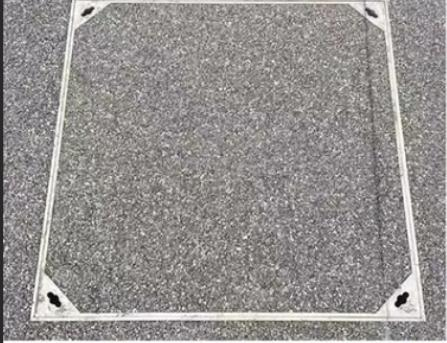wellcover: (18, 0, 447, 333)
